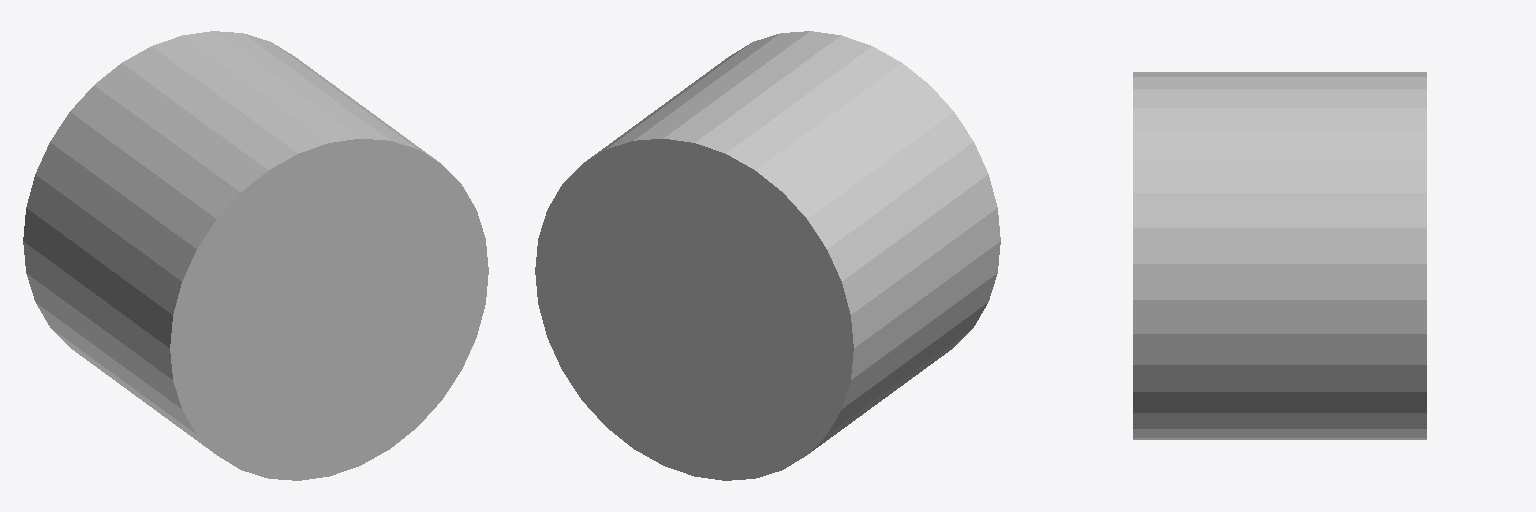
Rendered from Stop Button 02.obj.
3 views of the same model, side by side, from view 1: azimuth 30°, elevation 25°; view 2: azimuth 150°, elevation 25°; view 3: azimuth 270°, elevation 25° (orthographic).
Visible parts, largest first — view 1: cylinder_Cylinder.003; view 2: cylinder_Cylinder.003; view 3: cylinder_Cylinder.003.
Part boxes in pixels (left/top/right/bottom): cylinder_Cylinder.003: left=23, top=31, right=488, bottom=480; cylinder_Cylinder.003: left=535, top=31, right=1000, bottom=480; cylinder_Cylinder.003: left=1133, top=72, right=1426, bottom=439.
Size of the model in its own units: 0.7338 by 0.7338 by 0.5857.